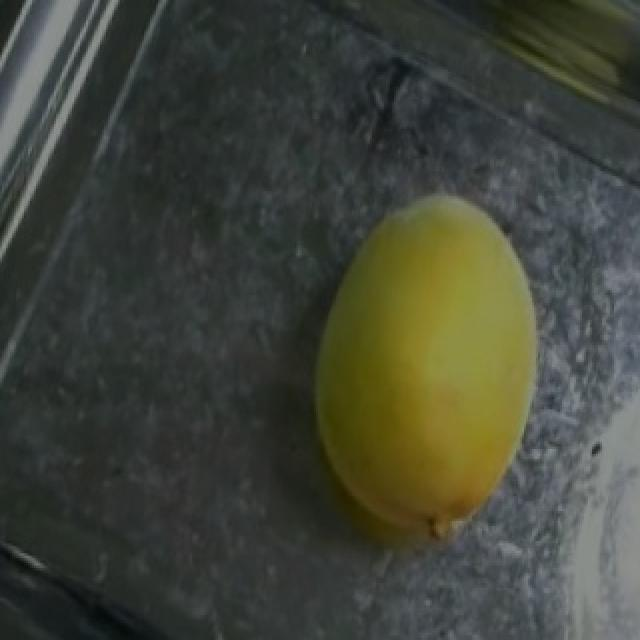fruit: (292, 144, 614, 556)
